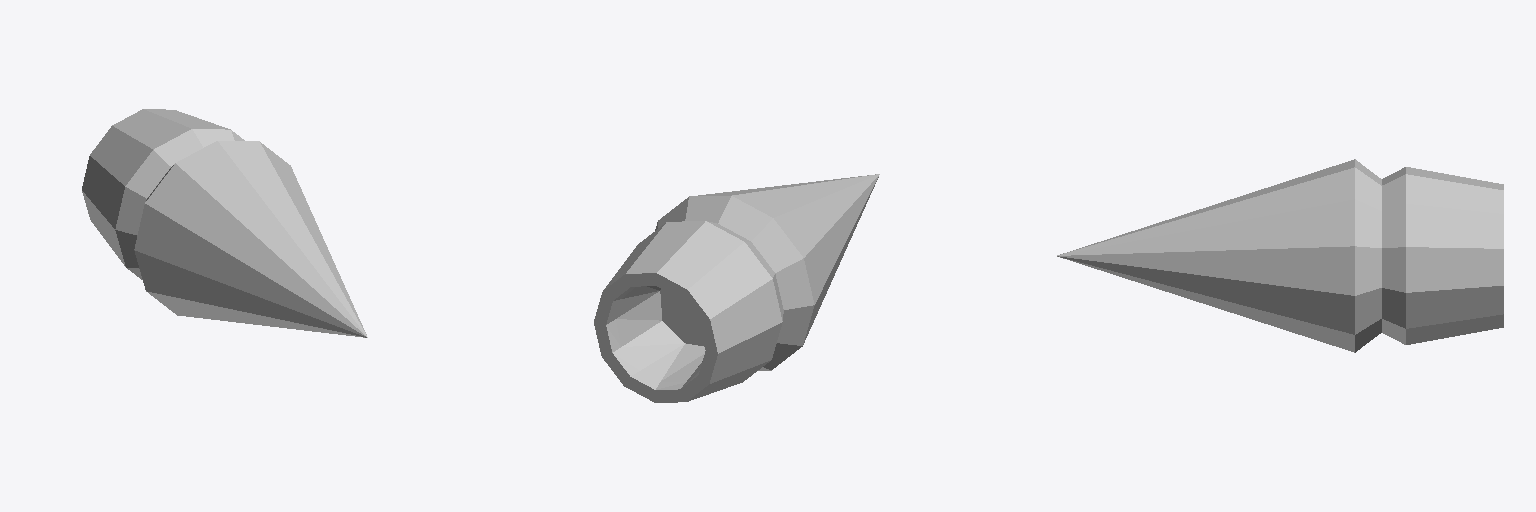
File: Projectile_Drill.obj
3 views of the same model, side by side, from view 1: azimuth 30°, elevation 25°; view 2: azimuth 150°, elevation 25°; view 3: azimuth 270°, elevation 25° (orthographic).
Parts seen in each view (by area): view 1: Projectile_Drill:pCone1; view 2: Projectile_Drill:pCone1; view 3: Projectile_Drill:pCone1.
Boxes of the visible parts, box(x1,y1,x2,y2) form: Projectile_Drill:pCone1: box(82, 109, 367, 337); Projectile_Drill:pCone1: box(594, 174, 879, 402); Projectile_Drill:pCone1: box(1057, 159, 1503, 352).
Bounding box in the file's own units: 87.73 × 87.73 × 202.